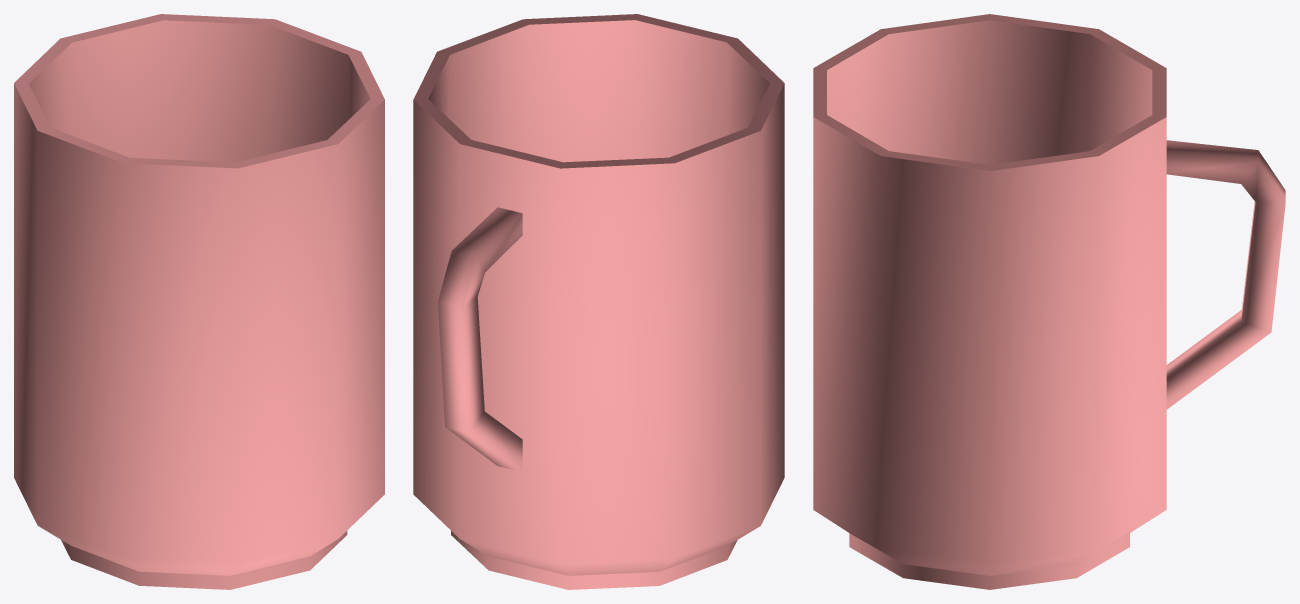
The model's file is TFYK_mug.FBX.
3 renders of one model, left to right at view 1: azimuth 30°, elevation 25°; view 2: azimuth 150°, elevation 25°; view 3: azimuth 270°, elevation 25°, orthographic.
Visible parts, largest first — view 1: TFYK_mug; view 2: TFYK_mug; view 3: TFYK_mug.
Boxes of the visible parts, x1,y1,x2,y2 form: TFYK_mug: [14, 14, 384, 589]; TFYK_mug: [413, 14, 784, 589]; TFYK_mug: [813, 14, 1285, 589].
Size of the model in its own units: 0.06 by 0.0774 by 0.0762.
